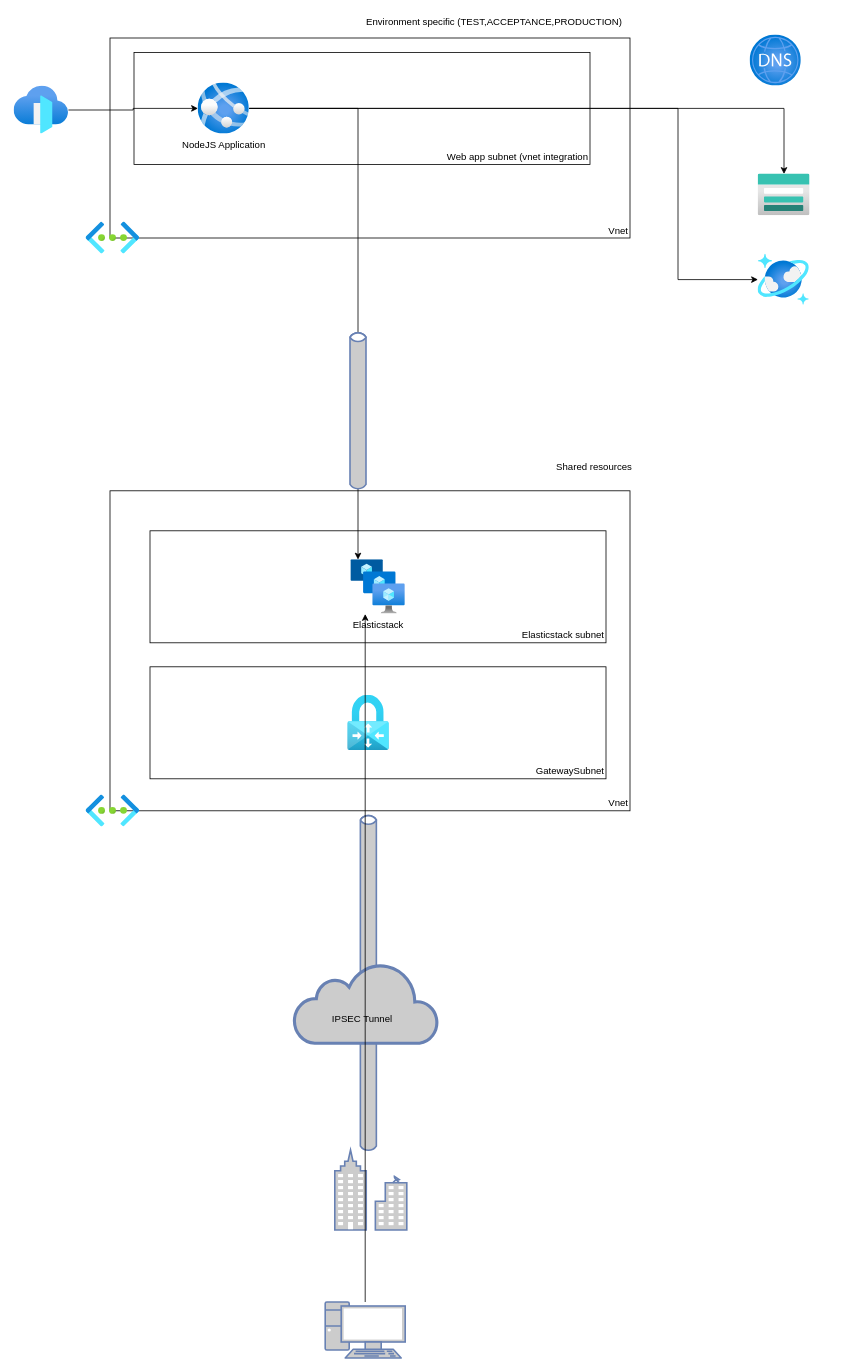
Some shapes in this 859 by 1372 pixel diagram are drawn without their labels. Each missing label, with the centre of its shape:
"(Document) Storage account" goes at point (784, 194).
"CosmosDB (MongoDB API)" goes at point (783, 279).
"Front door" goes at point (41, 110).
"VNET Peering" goes at point (357, 410).
